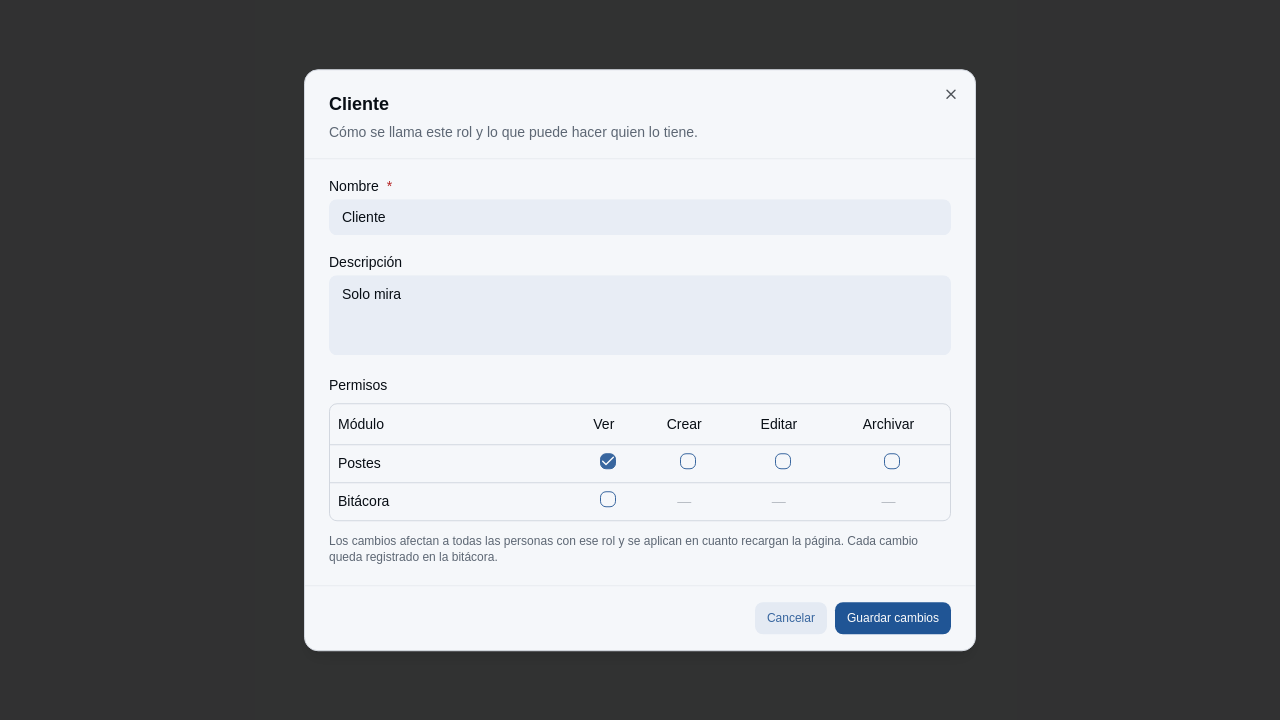
what one press of Guardar sends › refuses an empty name without asking the server anything
The image size is (1280, 720).
Expected: the text "Postes" is shown, [330,444,570,482]
Clear the field labelled "Nombre *" at (640, 217), box [329,199,951,235]
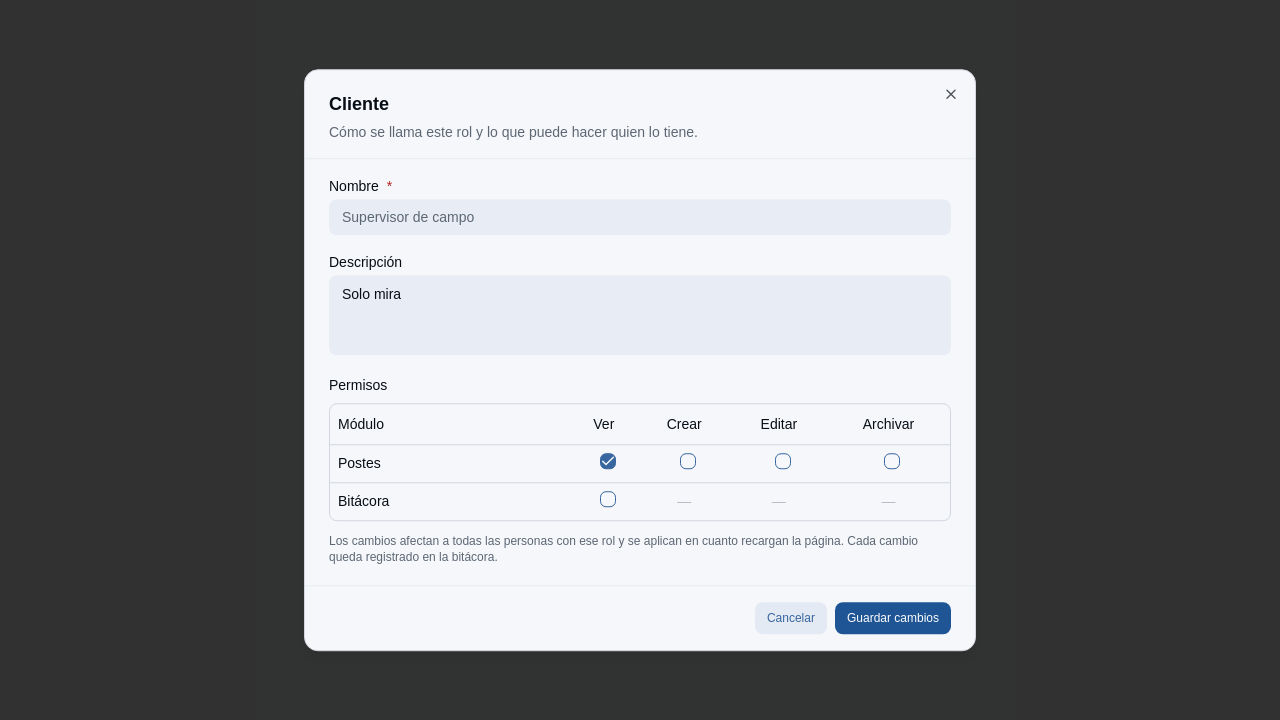
Click the checkbox named "Postes: Crear" at (688, 461), box [680,453,696,469]
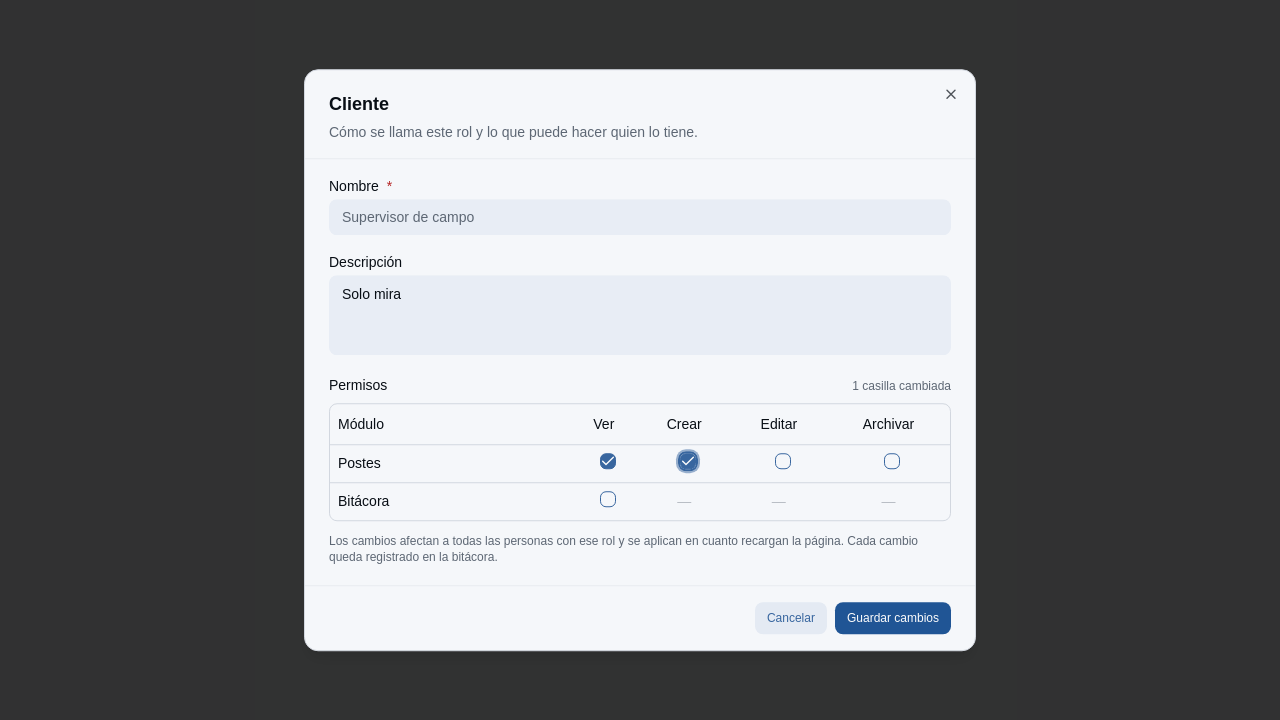
Click the button "Guardar cambios" at (893, 618), box [835,602,951,634]
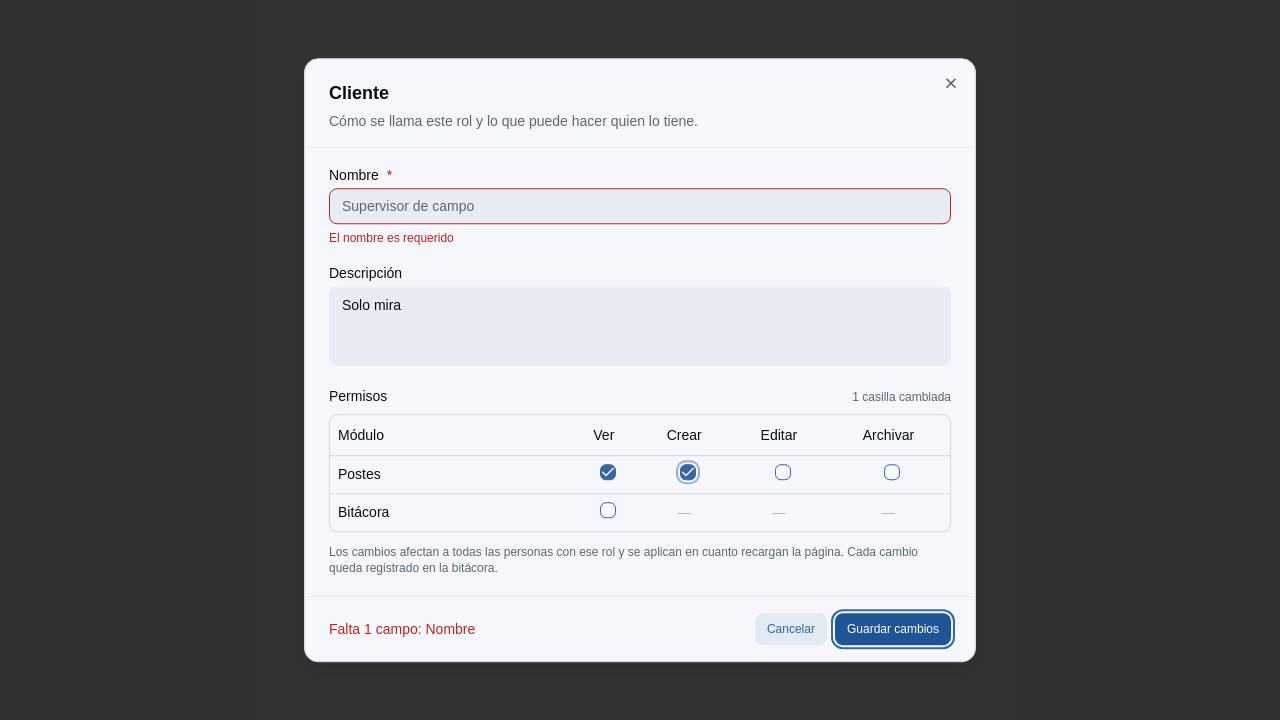
Expected: the text "El nombre es requerido" is shown, [329,231,454,245]
